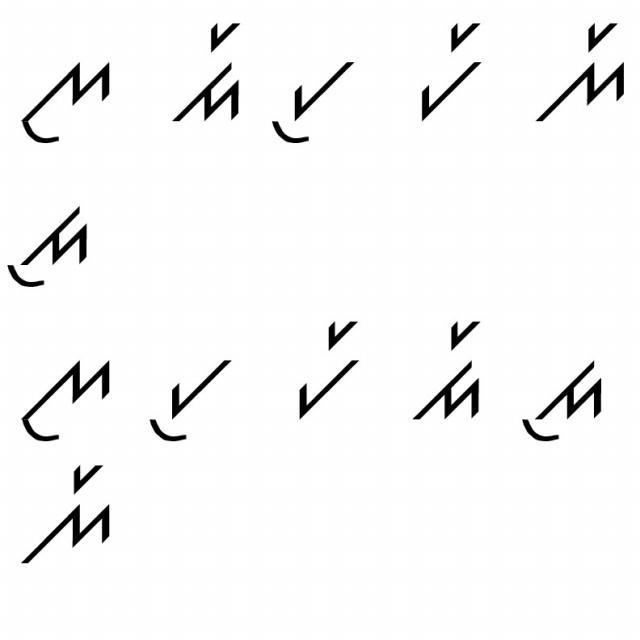dar: (168, 20, 253, 126), (409, 313, 488, 427)
daw: (514, 339, 612, 446), (9, 192, 98, 294)
nar: (530, 19, 633, 134), (18, 460, 115, 568)
naw: (9, 350, 118, 447), (9, 56, 116, 152)
par: (409, 12, 494, 125), (284, 315, 367, 422)
paw: (133, 353, 240, 446), (268, 49, 356, 155)
